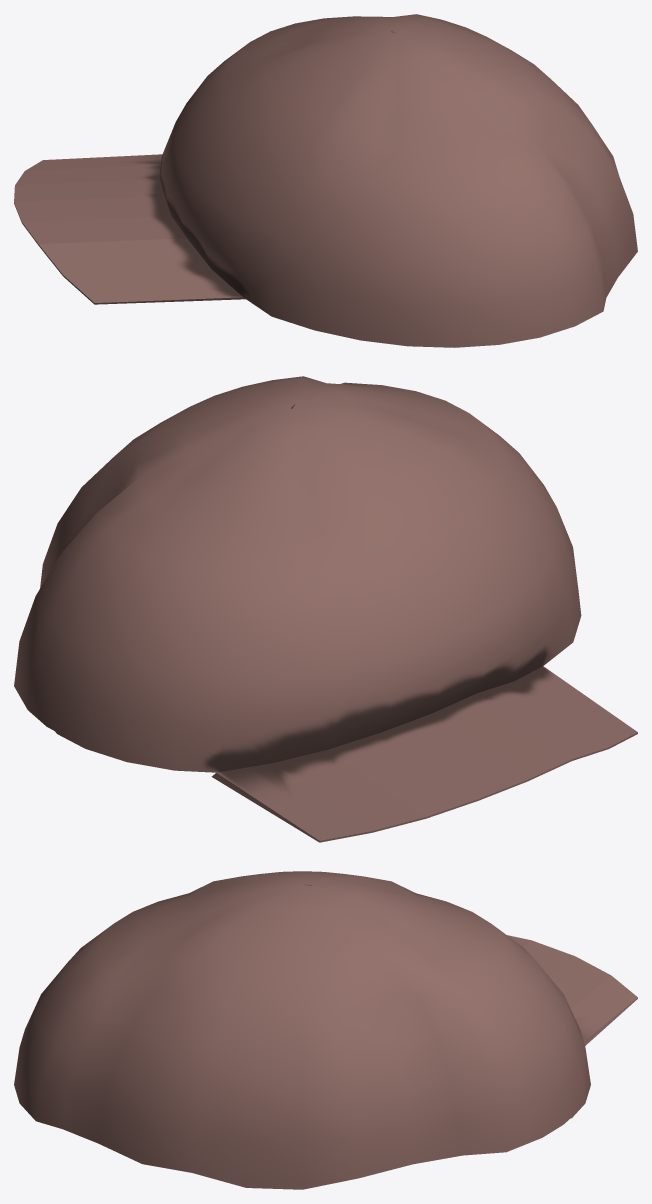
File: Detective_Hat.fbx
3 views of the same model, one above another, from view 1: azimuth 30°, elevation 25°; view 2: azimuth 150°, elevation 25°; view 3: azimuth 270°, elevation 25° (orthographic). The views are drawn at different scales.
Visible parts, largest first — view 1: Sphere001; view 2: Sphere001; view 3: Sphere001.
Boxes of the visible parts, bbox=[...] form: Sphere001: bbox=[14, 14, 637, 347]; Sphere001: bbox=[14, 376, 637, 842]; Sphere001: bbox=[14, 871, 637, 1189].
Size of the model in its own units: 26.55 by 10.73 by 28.91.
1 material, 1 textured.
